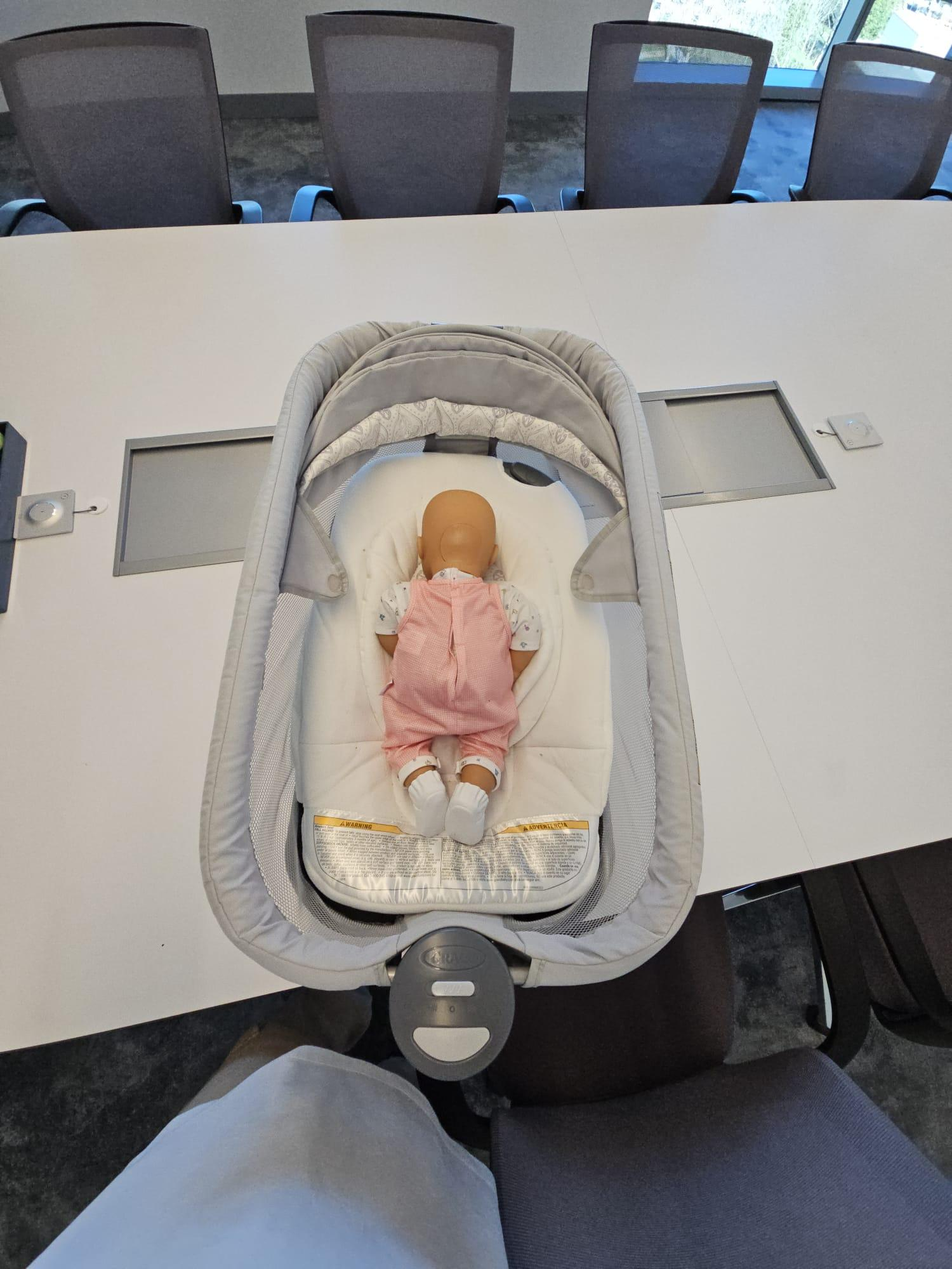baby: (346, 479, 568, 872)
